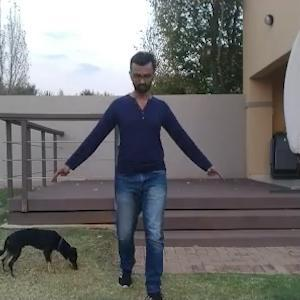land: (68, 60, 215, 293)
